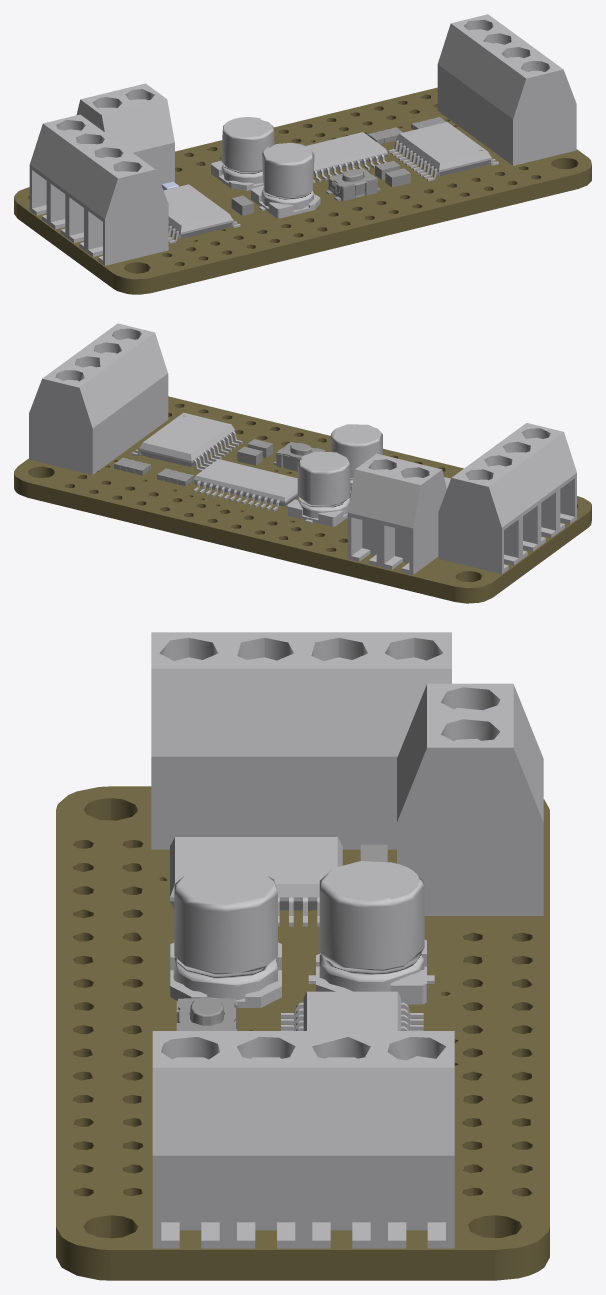
Rendered from ada-2927.glb.
3 views of the same model, one above another, from view 1: azimuth 30°, elevation 25°; view 2: azimuth 150°, elevation 25°; view 3: azimuth 270°, elevation 25° (orthographic). The views are drawn at different scales.
Parts seen in each view (by area): view 1: 0.5833333333333334_0.5833333333333334_0.5833333333333334_0.8, 0.16666666666666666_0.16666666666666666_0.08333333333333333_, 0.3333333333333333_0.3333333333333333_0.3333333333333333_0; view 2: 0.5833333333333334_0.5833333333333334_0.5833333333333334_0.8, 0.16666666666666666_0.16666666666666666_0.08333333333333333_, 0.3333333333333333_0.3333333333333333_0.3333333333333333_0; view 3: 0.5833333333333334_0.5833333333333334_0.5833333333333334_0.8, 0.16666666666666666_0.16666666666666666_0.08333333333333333_, 0.3333333333333333_0.3333333333333333_0.3333333333333333_0.
Part boxes in pixels (left/top/right/bottom): 0.5833333333333334_0.5833333333333334_0.5833333333333334_0.8: left=29, top=14, right=576, bottom=265; 0.16666666666666666_0.16666666666666666_0.08333333333333333_: left=14, top=87, right=591, bottom=294; 0.3333333333333333_0.3333333333333333_0.3333333333333333_0: left=231, top=117, right=446, bottom=215; 0.5833333333333334_0.5833333333333334_0.5833333333333334_0.8: left=29, top=323, right=576, bottom=574; 0.16666666666666666_0.16666666666666666_0.08333333333333333_: left=14, top=396, right=591, bottom=603; 0.3333333333333333_0.3333333333333333_0.3333333333333333_0: left=114, top=439, right=325, bottom=486; 0.5833333333333334_0.5833333333333334_0.5833333333333334_0.8: left=151, top=632, right=543, bottom=1248; 0.16666666666666666_0.16666666666666666_0.08333333333333333_: left=56, top=786, right=549, bottom=1280; 0.3333333333333333_0.3333333333333333_0.3333333333333333_0: left=176, top=844, right=387, bottom=1030.
Bounding box in the file's own units: 5.08 × 1.02 × 2.29.
